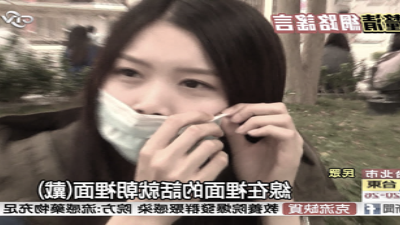mask_weared_incorrect: (91, 47, 227, 169)
